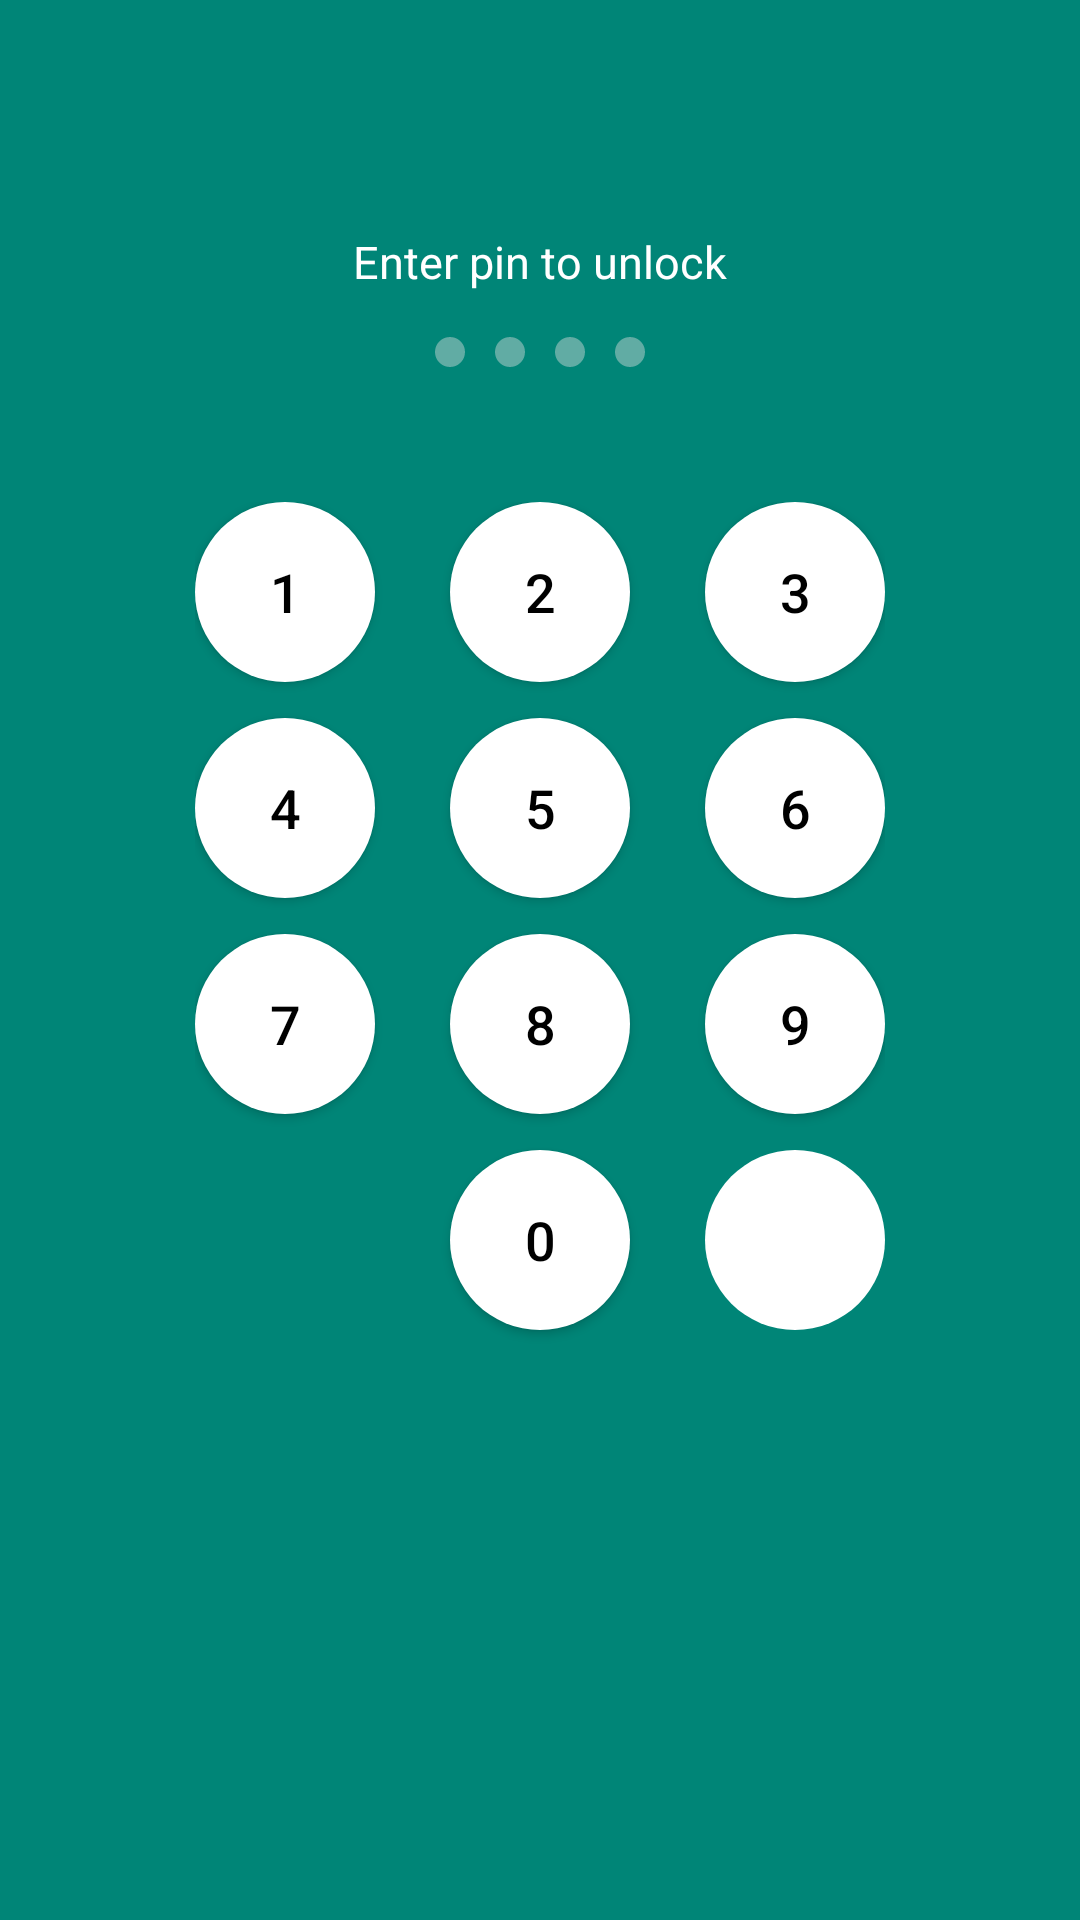

Icons on this 1080px×1920px Android screen, each with its box as bbox=(x1, y1, x2, y2):
passcode dot empty: bbox=(435, 337, 465, 367), bbox=(495, 337, 525, 367), bbox=(555, 337, 585, 367), bbox=(615, 337, 645, 367)
